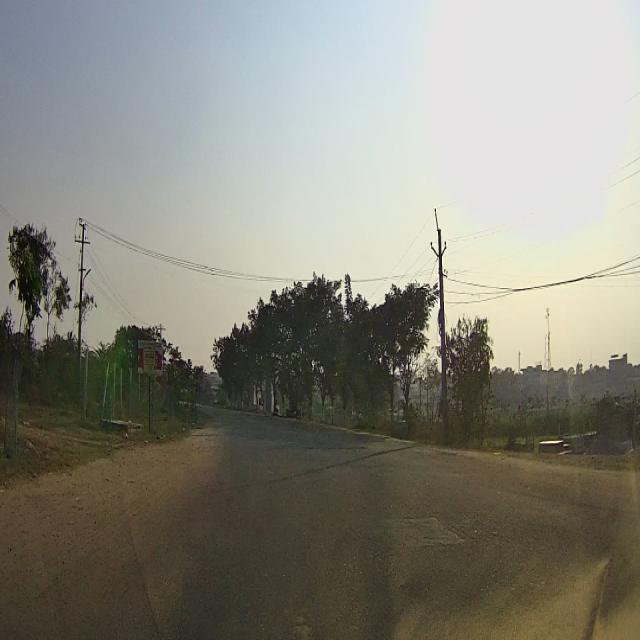barrier ahead at: (131, 331, 173, 441)
electric pole ahead at: (60, 212, 100, 434)
